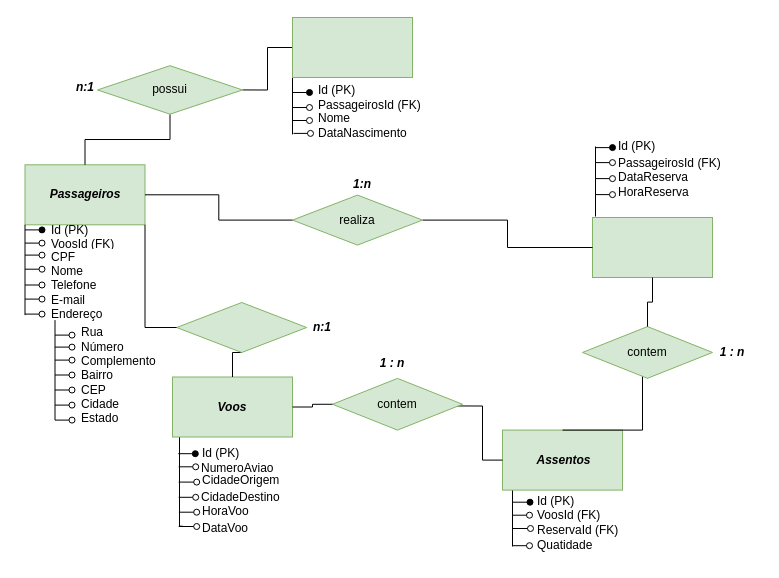
Some shapes in this 779 by 578 pixel diagram are drawn without their labels. The shapes that lost their labels are listed below. From the top down, each one's box as (x1, y1, x2, y2) in pixels, then its label:
(292, 16, 412, 78): Dependentes
(592, 216, 712, 278): Reserva
(176, 302, 307, 352): viajam
